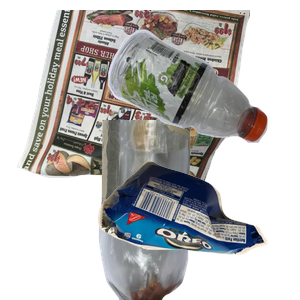glass: (96, 120, 283, 300)
paper: (14, 10, 254, 190)
plastic: (105, 27, 300, 162)
trash: (95, 158, 300, 300)
